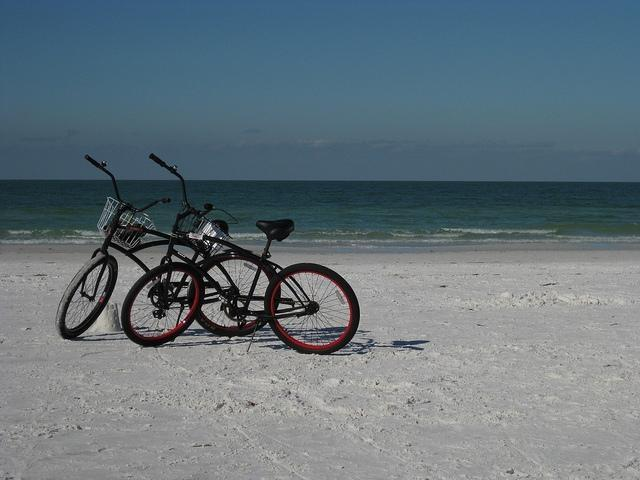bicycle: (120, 154, 360, 354), (55, 154, 266, 342)
